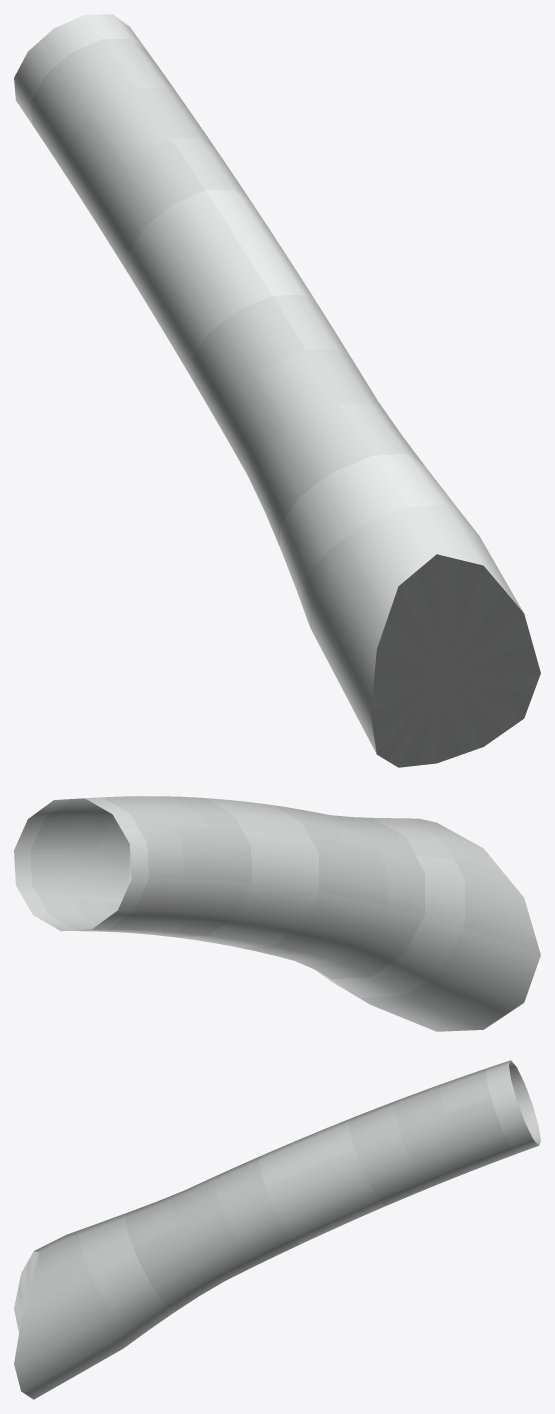
File: luminairearm_caltrans8ftdouble_c0_thin.obj
3 renders of one model, top to bottom at view 1: azimuth 30°, elevation 25°; view 2: azimuth 150°, elevation 25°; view 3: azimuth 270°, elevation 25°, orthographic. The views are drawn at different scales.
Parts seen in each view (by area): view 1: luminairearm_caltrans8ftdouble_c0_thin; view 2: luminairearm_caltrans8ftdouble_c0_thin; view 3: luminairearm_caltrans8ftdouble_c0_thin.
Part boxes in pixels (x1,y1,x2,y2): luminairearm_caltrans8ftdouble_c0_thin: (14,14,540,767); luminairearm_caltrans8ftdouble_c0_thin: (14,796,540,1031); luminairearm_caltrans8ftdouble_c0_thin: (14,1060,540,1399).
Bounding box in the file's own units: 0.3375 × 0.9304 × 1.36.
